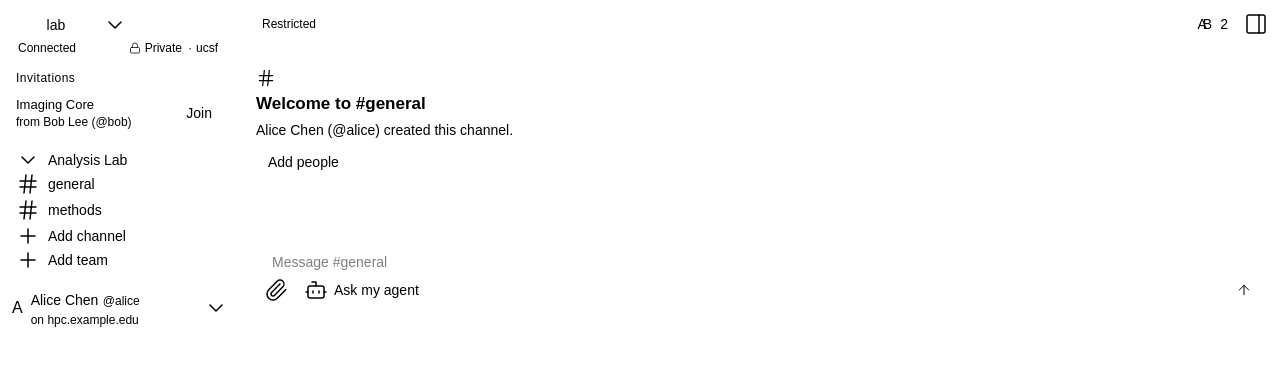
Scenario: a send failure belongs to its channel and its draft (QA M5, R-4) › goes when the draft is edited
This screenshot has width=1280, height=369.
Type "for #general" into the text box labelled "Message #general" at (762, 262), box [272,246,1252,278]
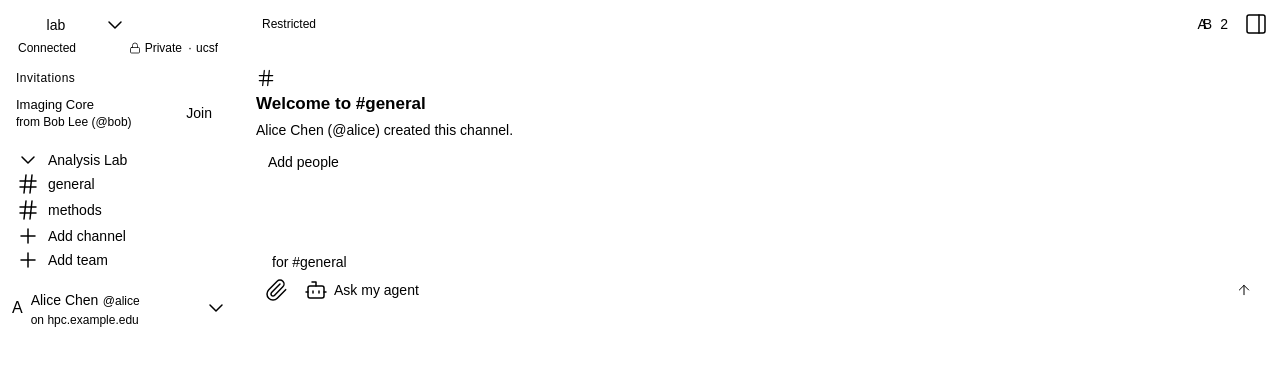
Click the button named "Send message" at (1244, 290), box [1236,282,1252,298]
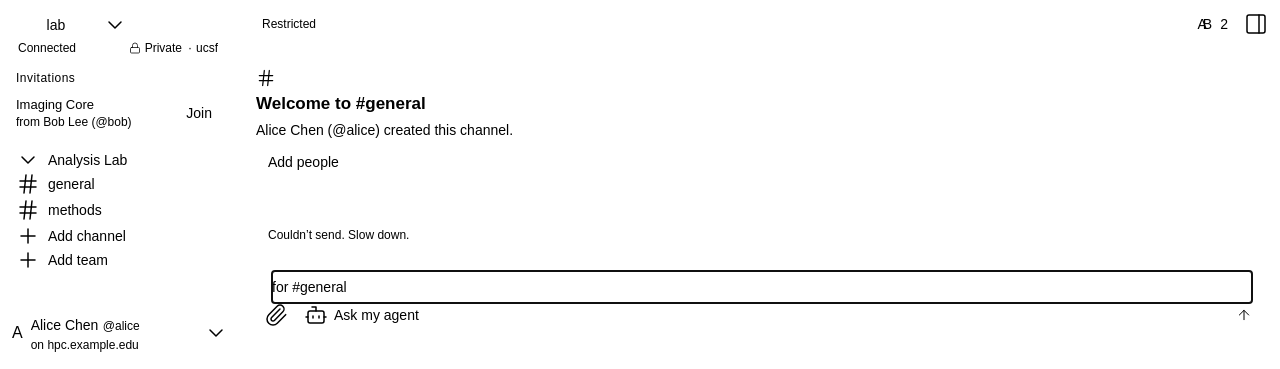
Replace the text in the text box named "Message #general" with "for #general, again" at (762, 287), box [272,271,1252,303]
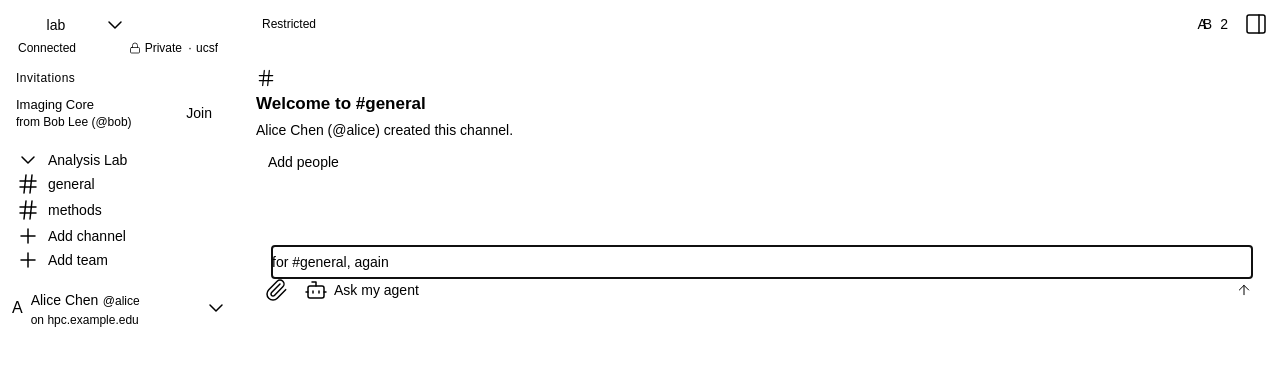
Expected: the text "Couldn’t send." is gone
